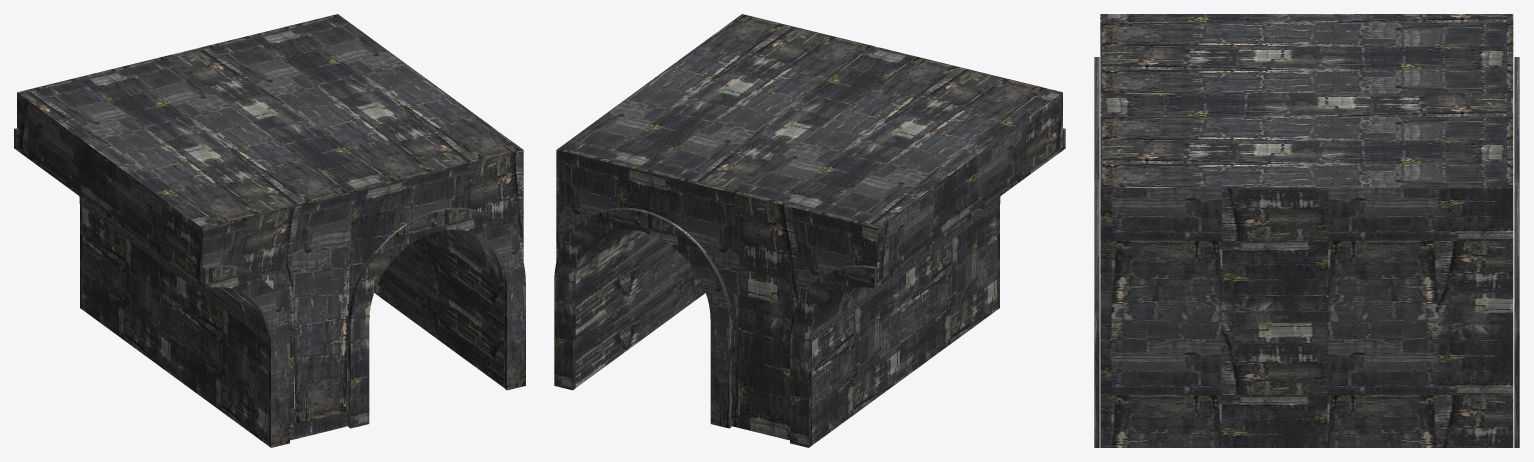
Rendered from HoCitadelSub02.glb.
3 renders of one model, left to right at view 1: azimuth 30°, elevation 25°; view 2: azimuth 150°, elevation 25°; view 3: azimuth 270°, elevation 25°, orthographic. The views are drawn at different scales.
Parts seen in each view (by area): view 1: Base.003; view 2: Base.003; view 3: Base.003.
Boxes of the visible parts, x1=… form: Base.003: x1=14, y1=14, x2=525, y2=447; Base.003: x1=554, y1=14, x2=1065, y2=447; Base.003: x1=1094, y1=14, x2=1519, y2=447.
Size of the model in its own units: 45.32 by 31.54 by 46.78.
Materials: 1 (1 with a texture image).
